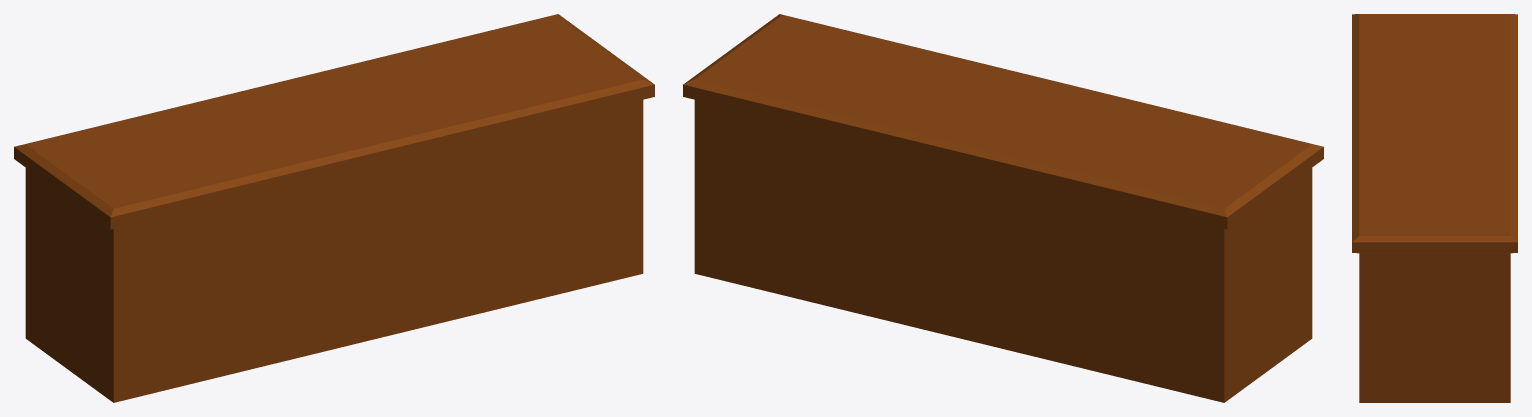
File: toy_box_001.FBX
The picture shows the model from 3 angles, left to right: view 1: azimuth 30°, elevation 25°; view 2: azimuth 150°, elevation 25°; view 3: azimuth 270°, elevation 25°; orthographic projection. The views are drawn at different scales.
Parts seen in each view (by area): view 1: toy_box_001; view 2: toy_box_001; view 3: toy_box_001.
Boxes of the visible parts, x1,y1,x2,y2 form: toy_box_001: (14, 14, 654, 402); toy_box_001: (683, 14, 1323, 402); toy_box_001: (1352, 14, 1517, 402).
Bounding box in the file's own units: 1.33 × 0.4551 × 0.4097.
